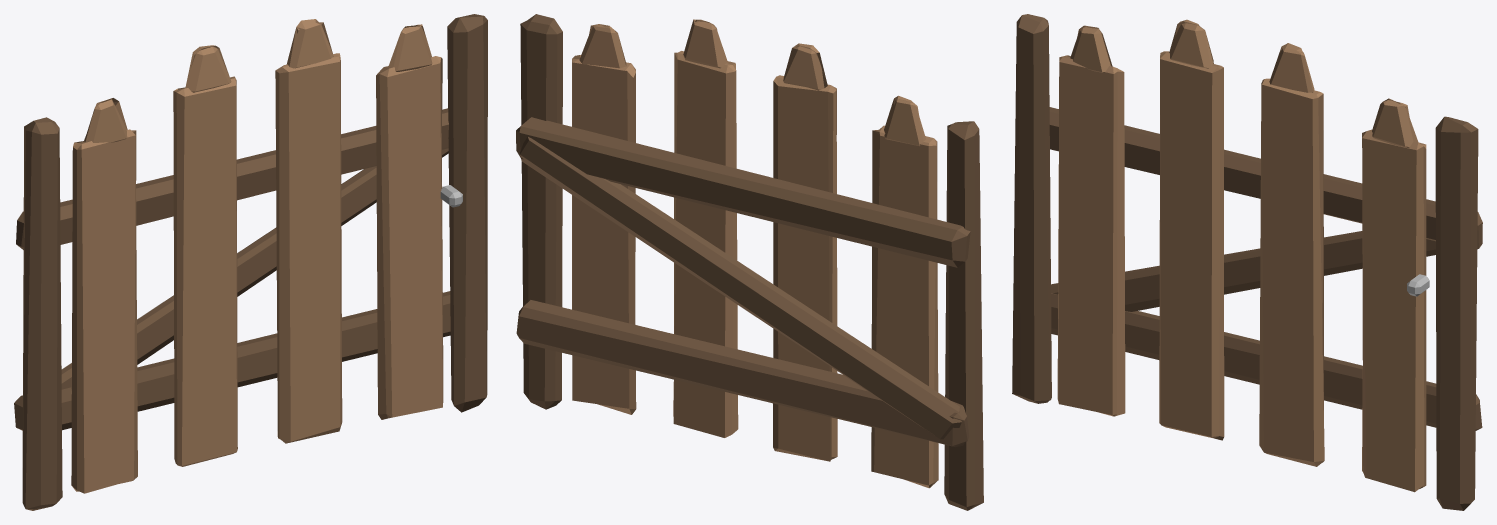
File: PKX_Fence_Gate.fbx
3 views of the same model, side by side, from view 1: azimuth 30°, elevation 25°; view 2: azimuth 150°, elevation 25°; view 3: azimuth 330°, elevation 25° (orthographic).
Parts seen in each view (by area): view 1: PKX_Fence_Gate; view 2: PKX_Fence_Gate; view 3: PKX_Fence_Gate.
Boxes of the visible parts, x1=… form: PKX_Fence_Gate: x1=14, y1=14, x2=487, y2=510; PKX_Fence_Gate: x1=516, y1=14, x2=983, y2=510; PKX_Fence_Gate: x1=1012, y1=14, x2=1482, y2=510.
Size of the model in its own units: 100 by 88.44 by 12.93.
